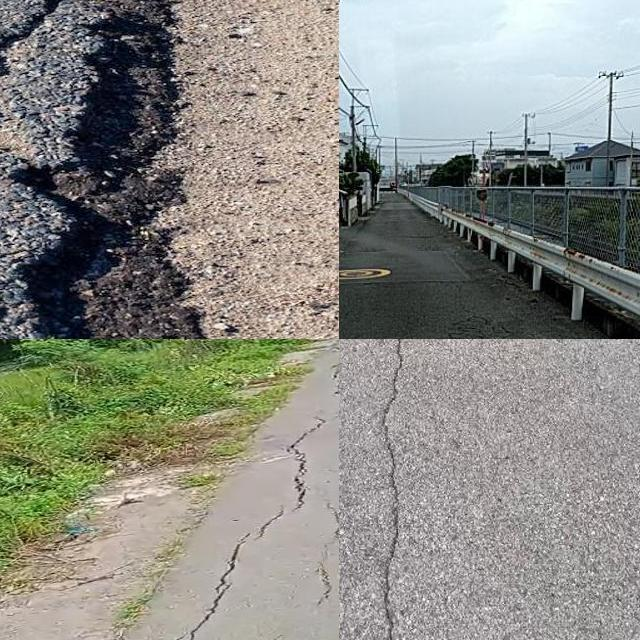Memanjang: (144, 347, 339, 640), (367, 339, 427, 640)
Pinggir: (0, 0, 233, 339)
